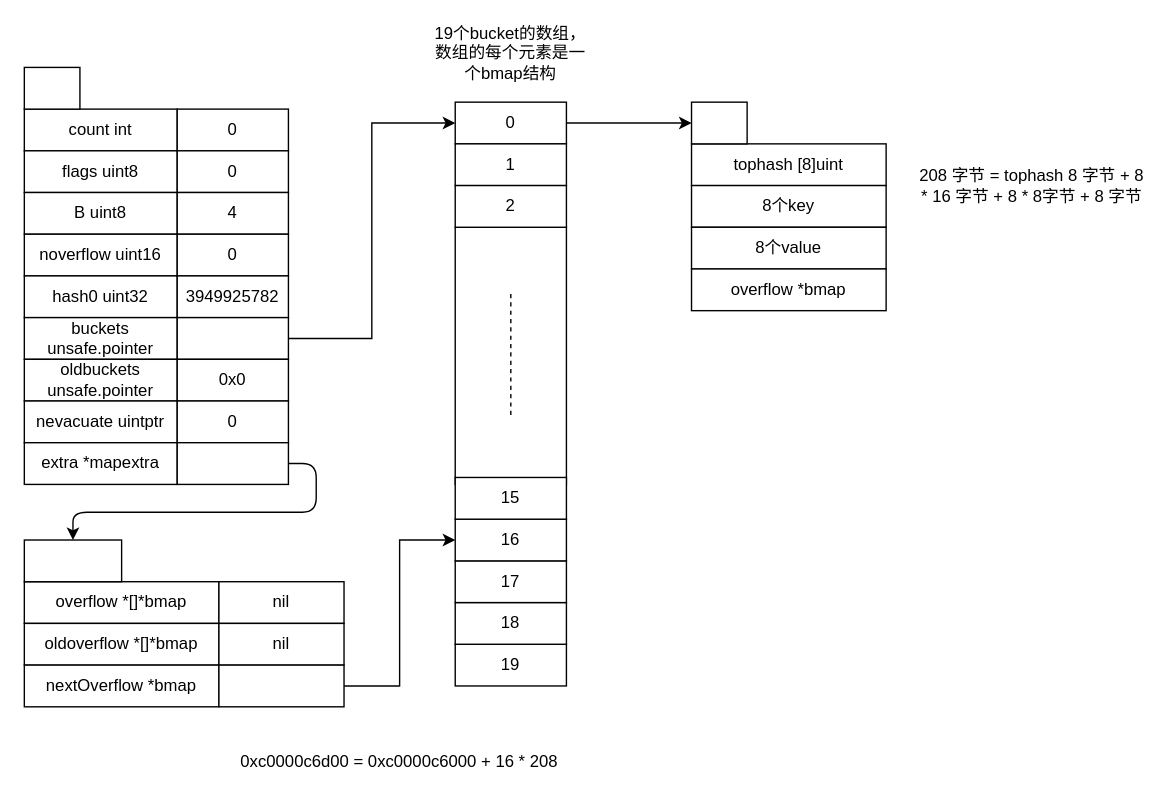
Some shapes in this 1175 by 801 pixel diagram are drawn without their labels. Each missing label, with the centre of its shape:
0xc0000c6000: (x=232, y=337)
0xc0000c6d00: (x=281, y=685)
bmap: (x=718, y=122)
hmap: (x=51, y=87)
mapextra: (x=72, y=560)
